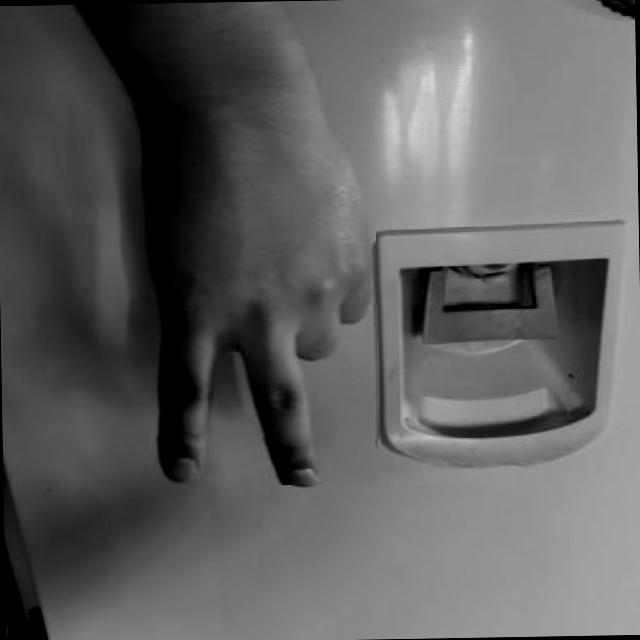N: (118, 91, 381, 488)
